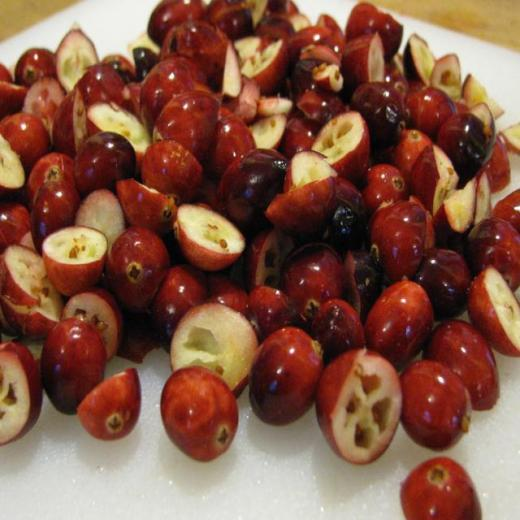Apple: (159, 364, 238, 463)
